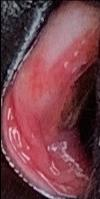eye_membrane: (1, 2, 100, 199)
